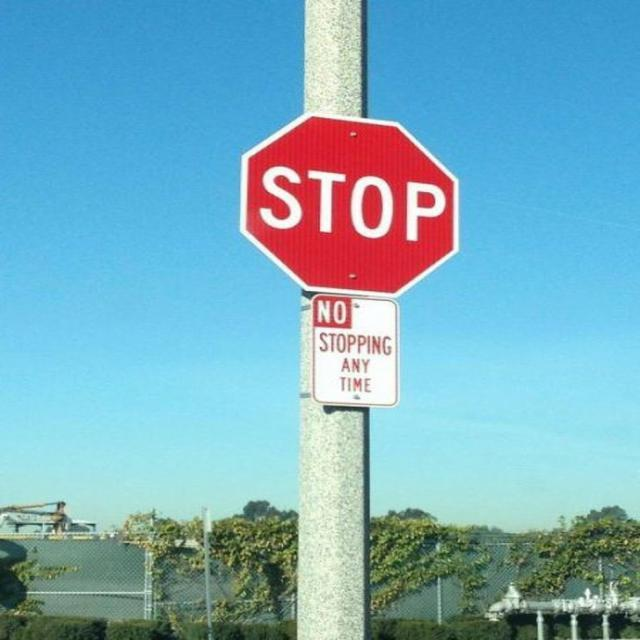stop: (238, 111, 459, 297)
